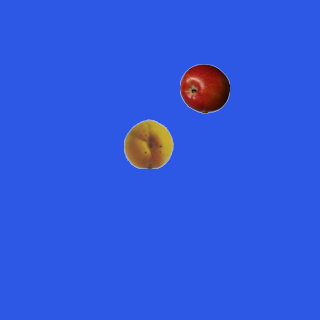Apple Braeburn: (179, 63, 229, 113)
Peach 2: (123, 118, 173, 168)
